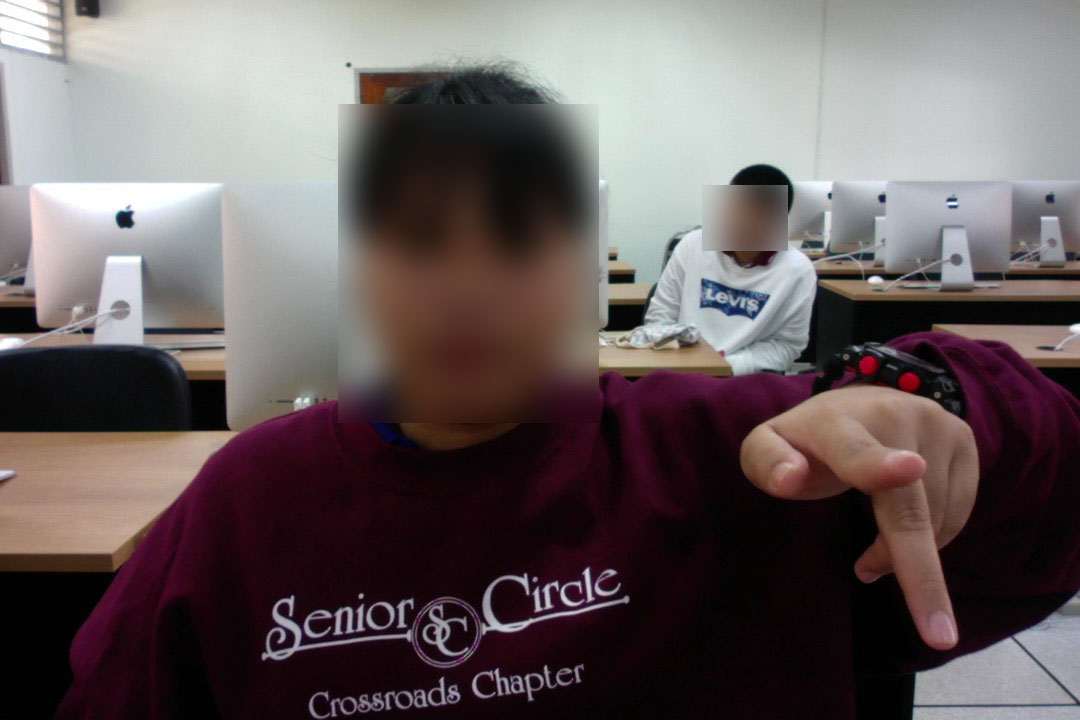por: (734, 372, 990, 657)
